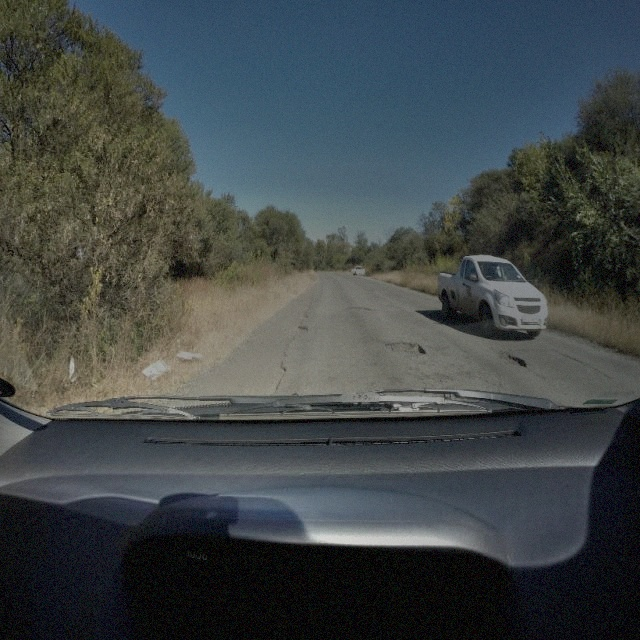pothole: (383, 335, 425, 356), (497, 349, 526, 368), (346, 301, 376, 312)
